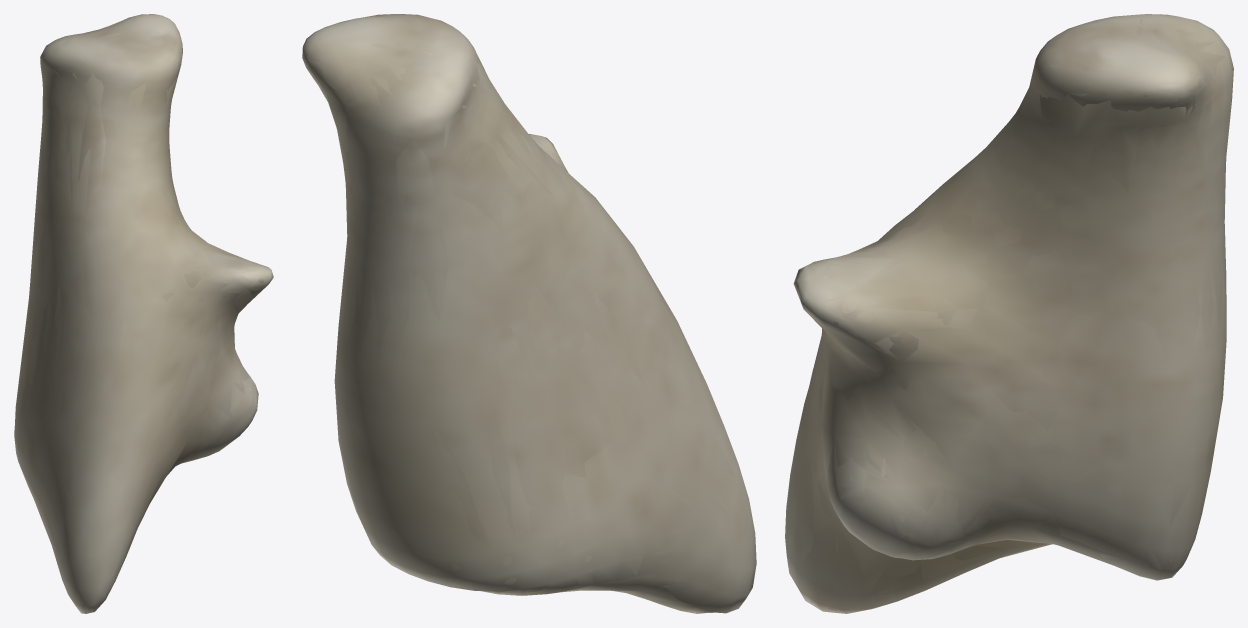
The model's file is L talus.fbx.
3 views of the same model, side by side, from view 1: azimuth 30°, elevation 25°; view 2: azimuth 150°, elevation 25°; view 3: azimuth 270°, elevation 25° (orthographic). The views are drawn at different scales.
Visible parts, largest first — view 1: L talus, L talus low, L talus high; view 2: L talus, L talus low, L talus high; view 3: L talus, L talus low, L talus high.
Part boxes in pixels (x1,y1,x2,y2): L talus: [14, 14, 273, 613]; L talus low: [15, 18, 272, 613]; L talus high: [15, 15, 263, 610]; L talus: [302, 14, 756, 613]; L talus low: [302, 22, 752, 613]; L talus high: [305, 15, 748, 612]; L talus: [785, 14, 1233, 613]; L talus low: [786, 16, 1231, 613]; L talus high: [786, 21, 1226, 610].
Size of the model in its own units: 0.6996 by 1.45 by 0.8737.
Materials: 1 (1 with a texture image).
